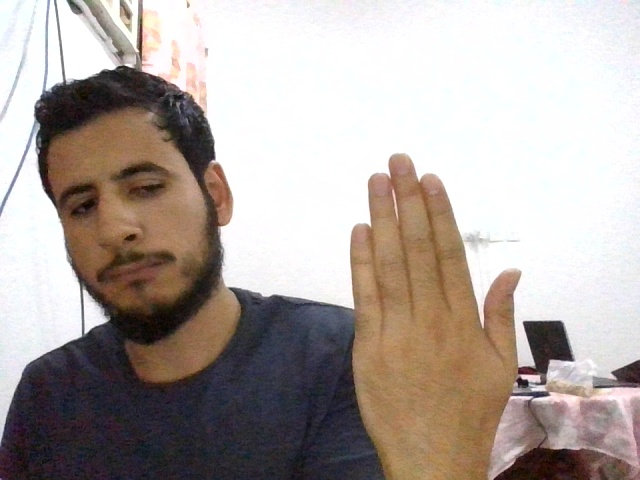Five: (350, 153, 523, 475)
